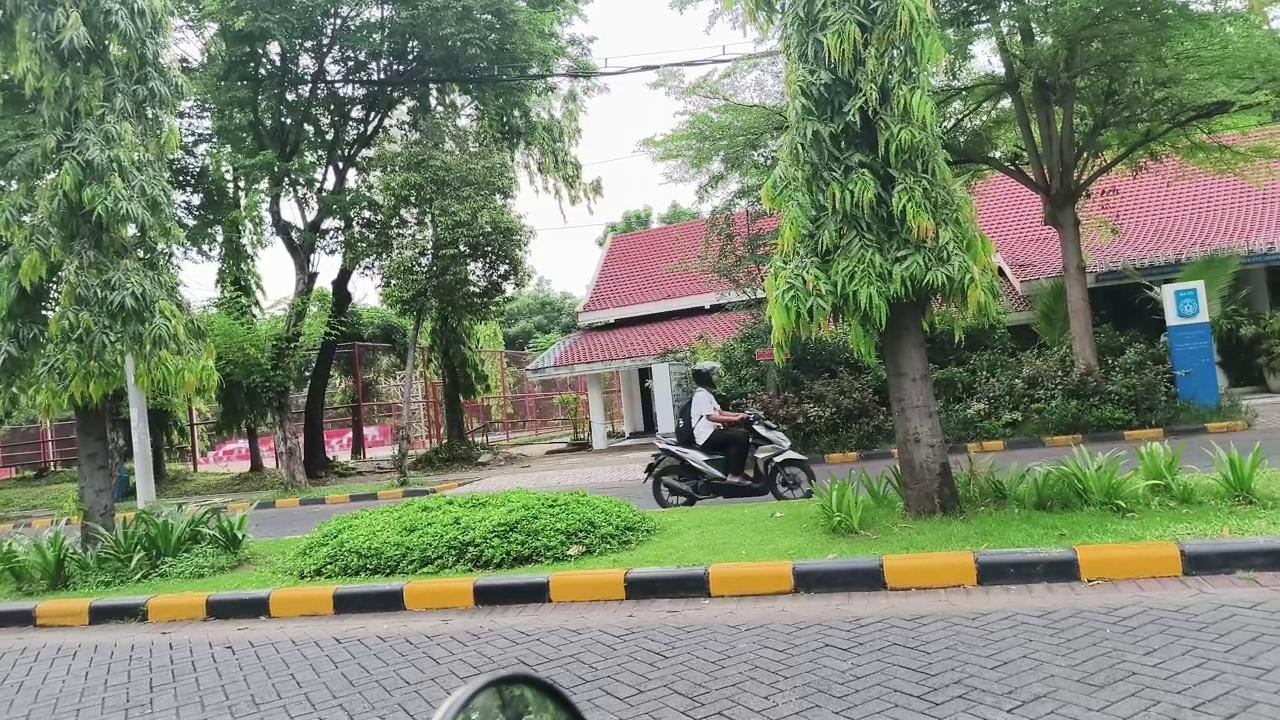Helmet: (689, 362, 749, 484)
Motor: (645, 412, 814, 507)
